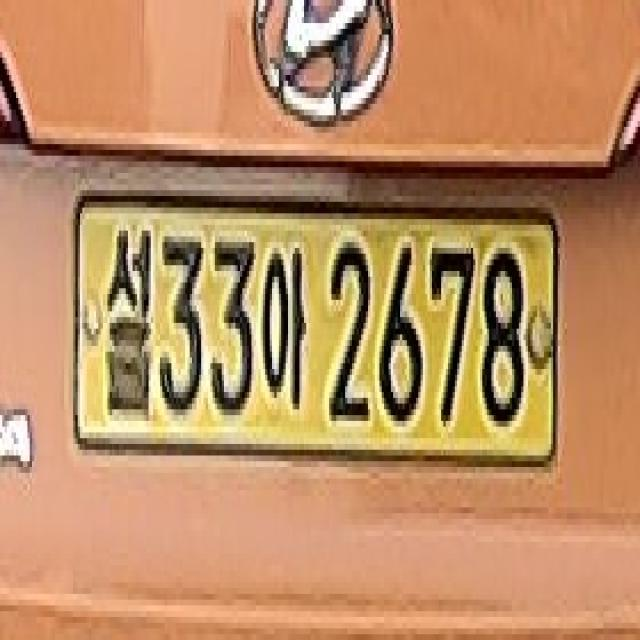plat: (73, 191, 560, 463)
